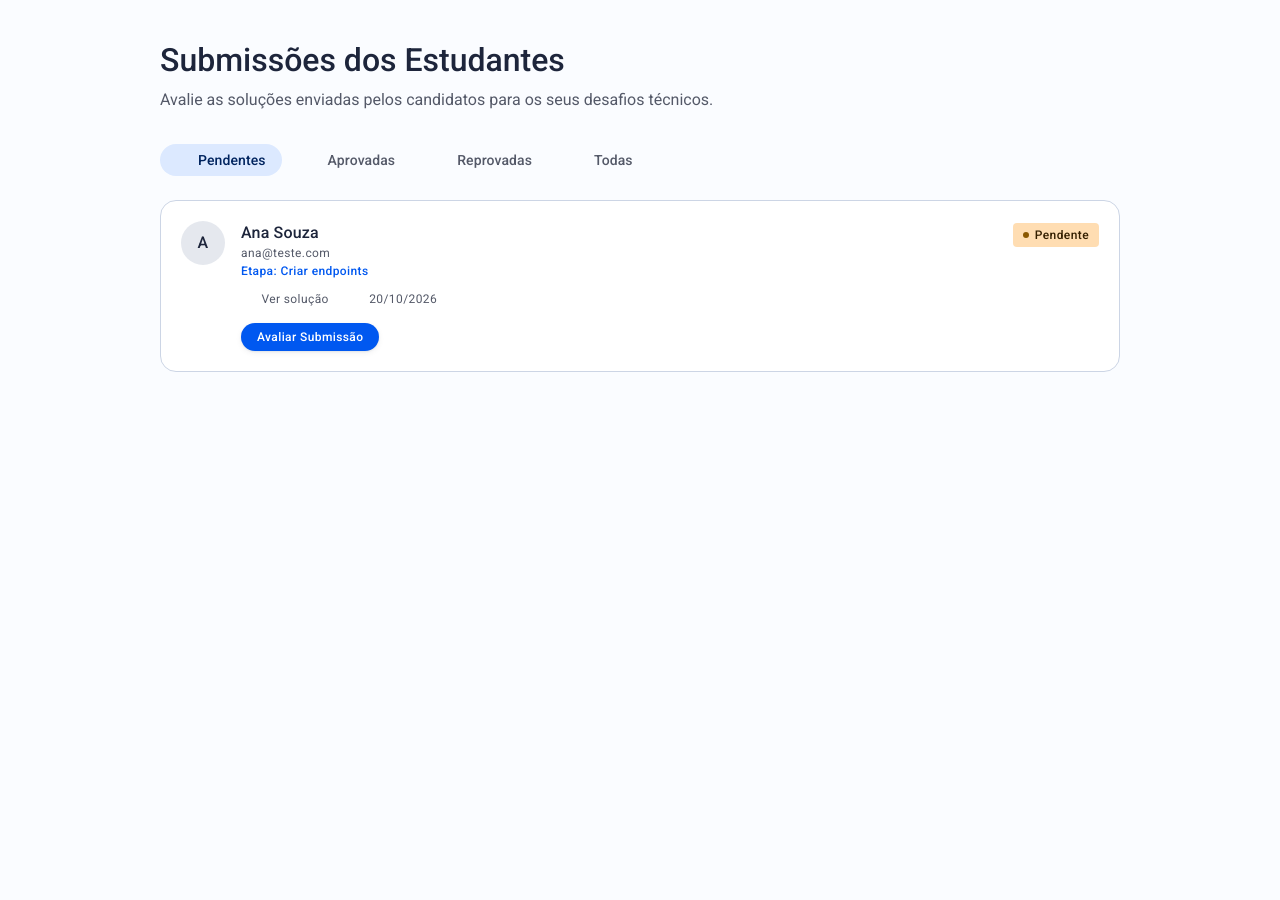
Test case: CompanySubmissions › mostra o erro devolvido pela API ao avaliar
Click the button "Avaliar Submissão" at [310, 337], box top-left (241, 323), bottom-right (379, 351)
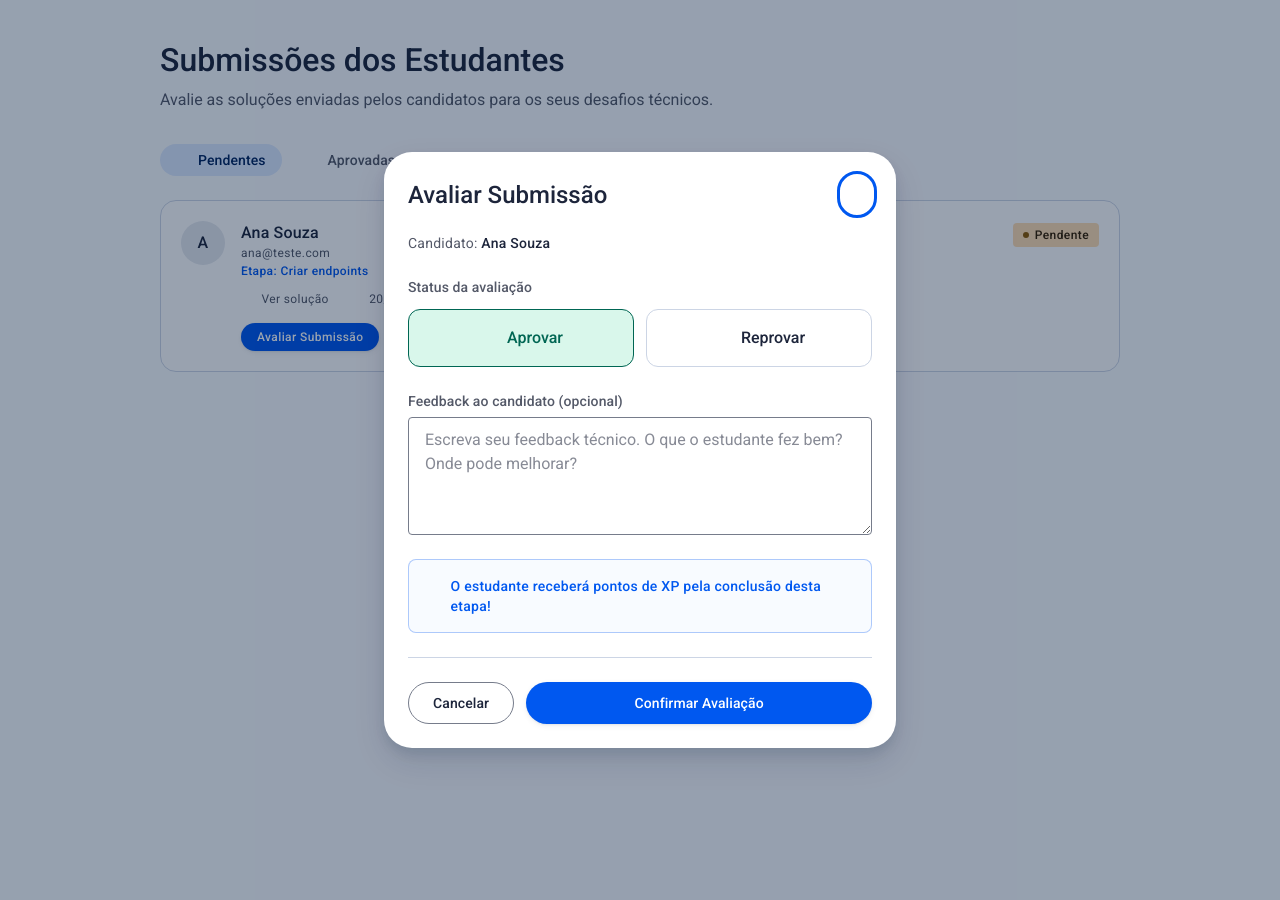
Click the button "Confirmar Avaliação" at [699, 703], box top-left (526, 682), bottom-right (872, 724)
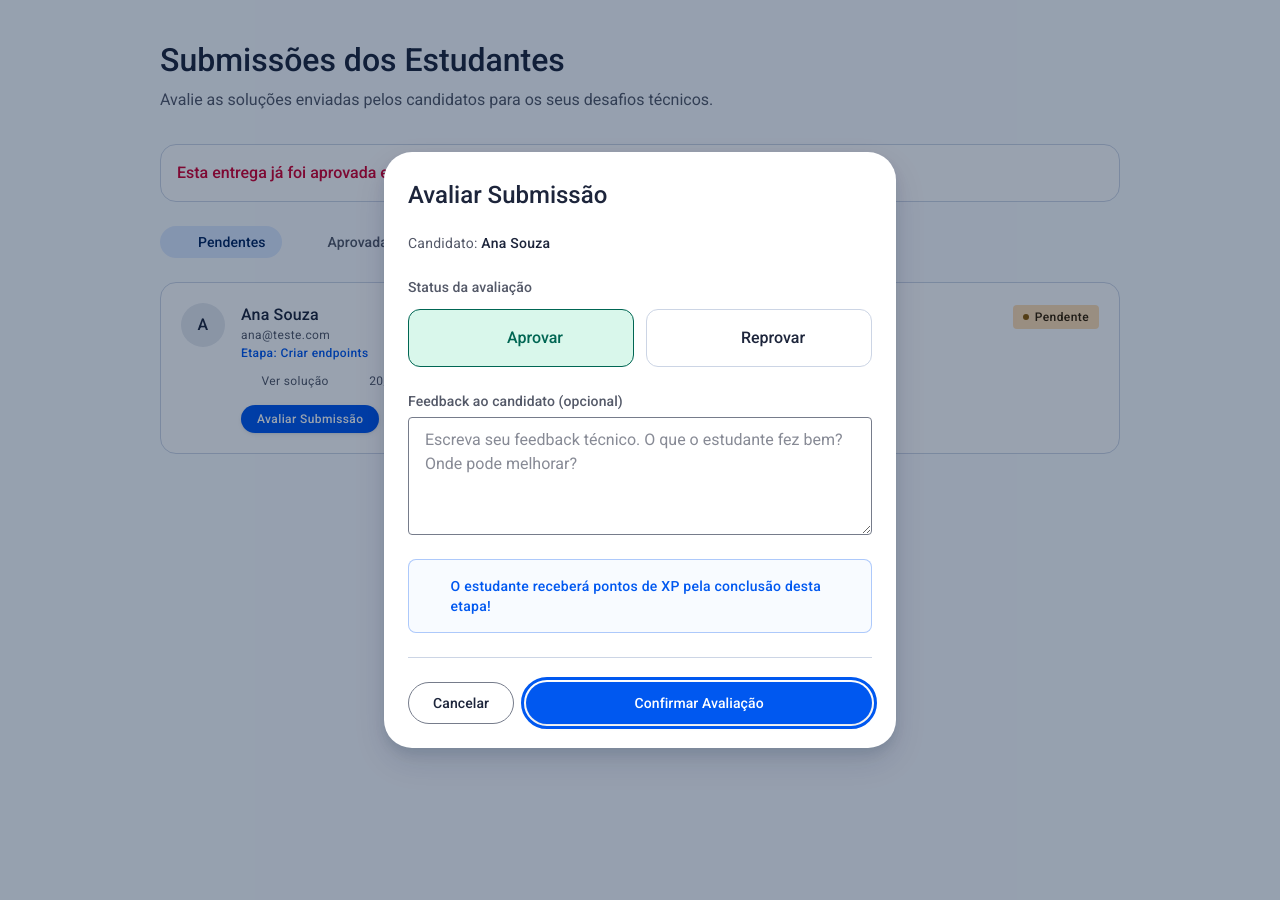
expect the text "Esta entrega já foi aprovada e não pode ser reavaliada." is shown: met, box top-left (177, 163), bottom-right (567, 182)
